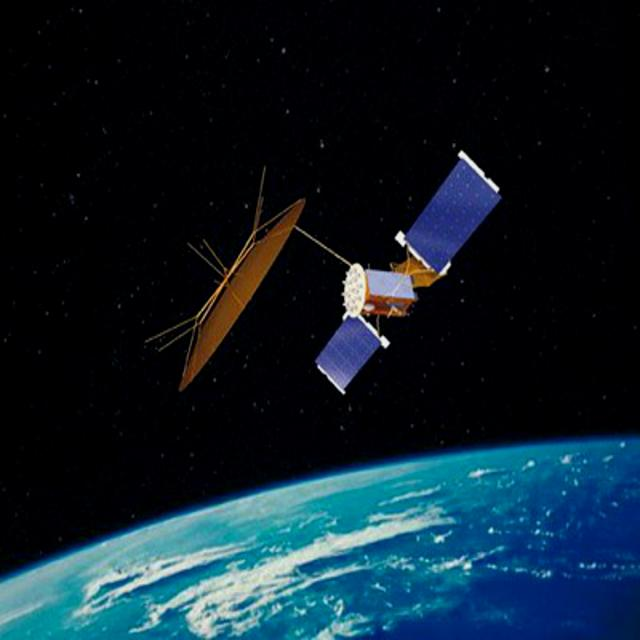satellite: (143, 86, 513, 425)
